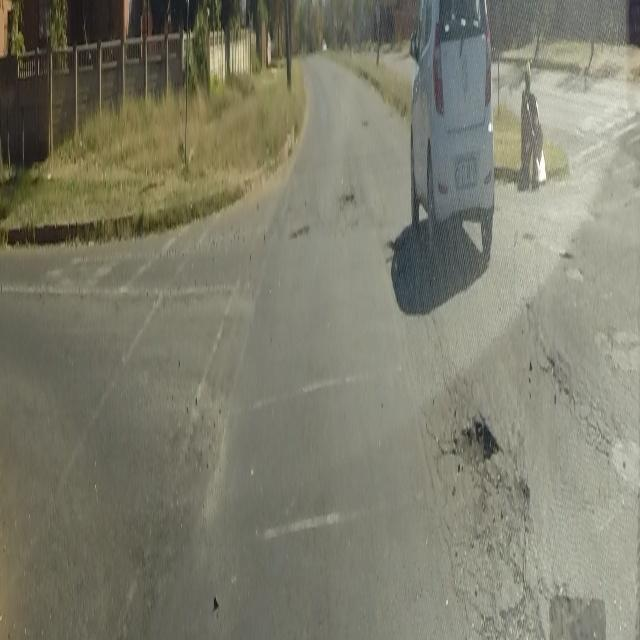pothole: (448, 404, 501, 470), (287, 214, 310, 248), (336, 184, 355, 206), (556, 244, 573, 268), (521, 226, 534, 244)
